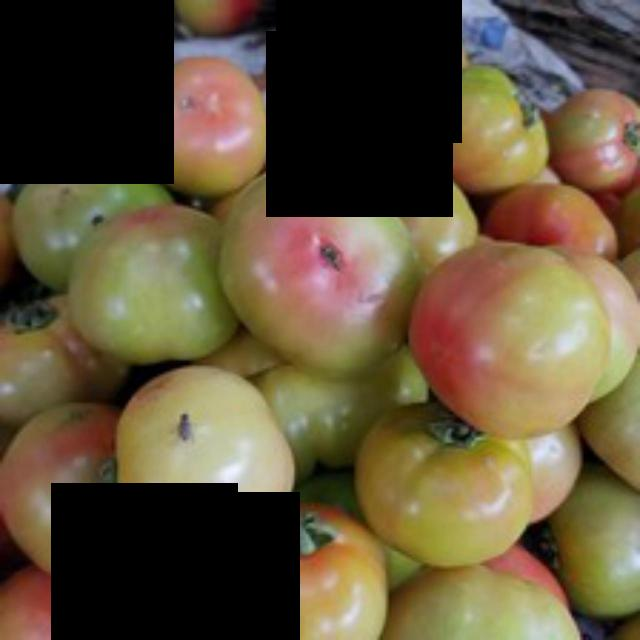tomato: (411, 234, 609, 434)
